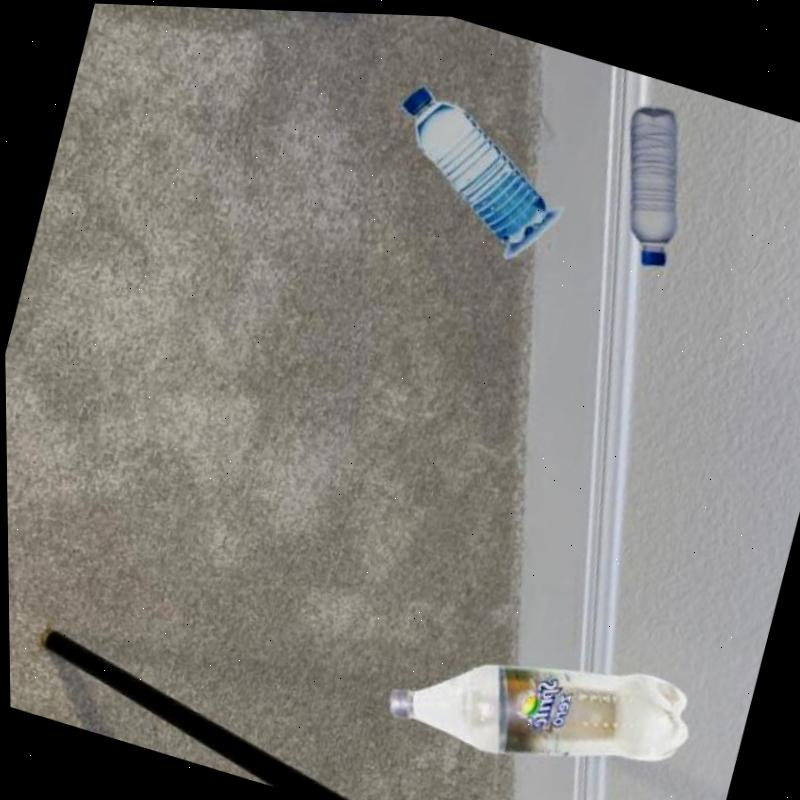botella: (377, 588, 699, 799), (368, 78, 570, 255), (587, 93, 707, 267)
